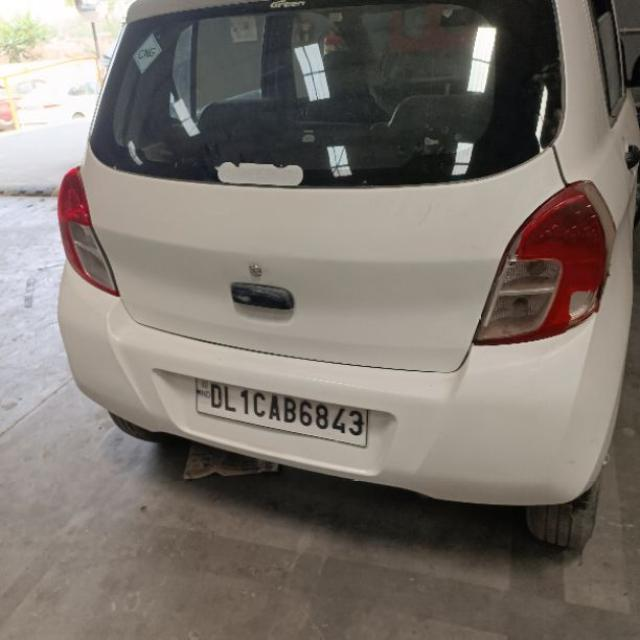license_plate: (193, 377, 368, 448)
